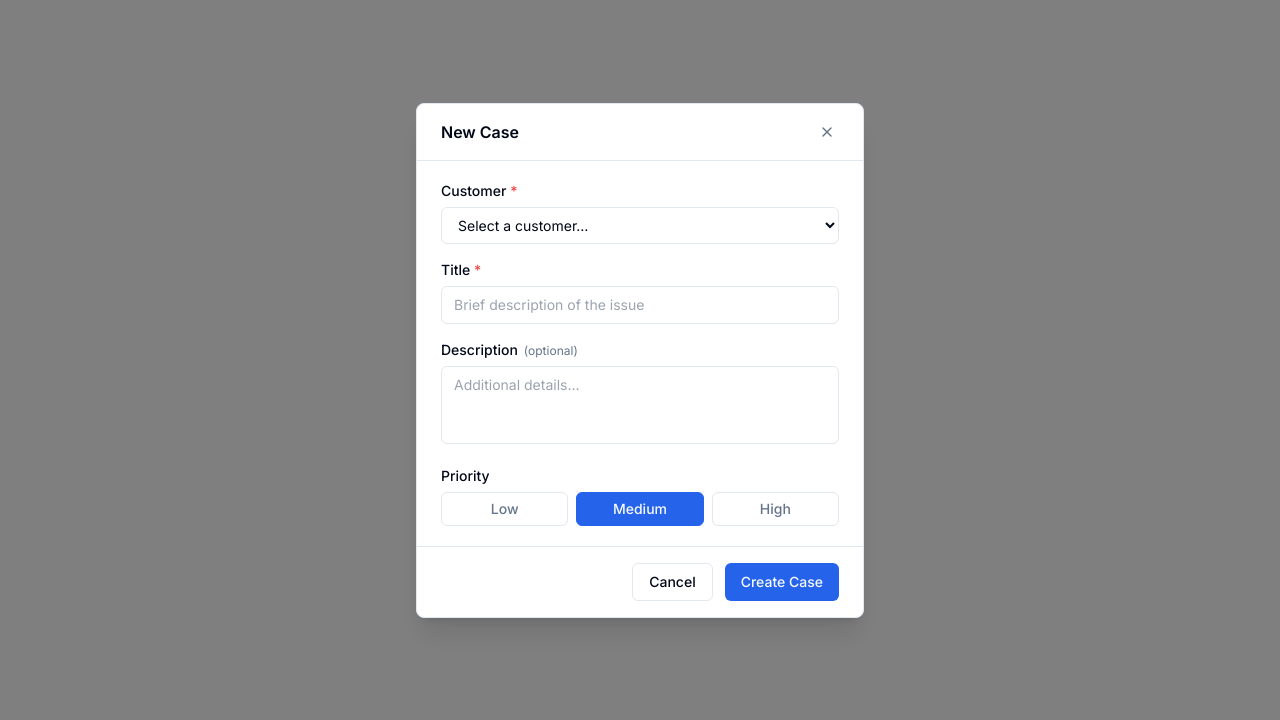
Test case: CreateCaseModal › shows error when submitting without selecting a customer
Type "Login bug" into the field labelled "Title *".
click(640, 304); type("Login bug")  # box [441,286,839,324]
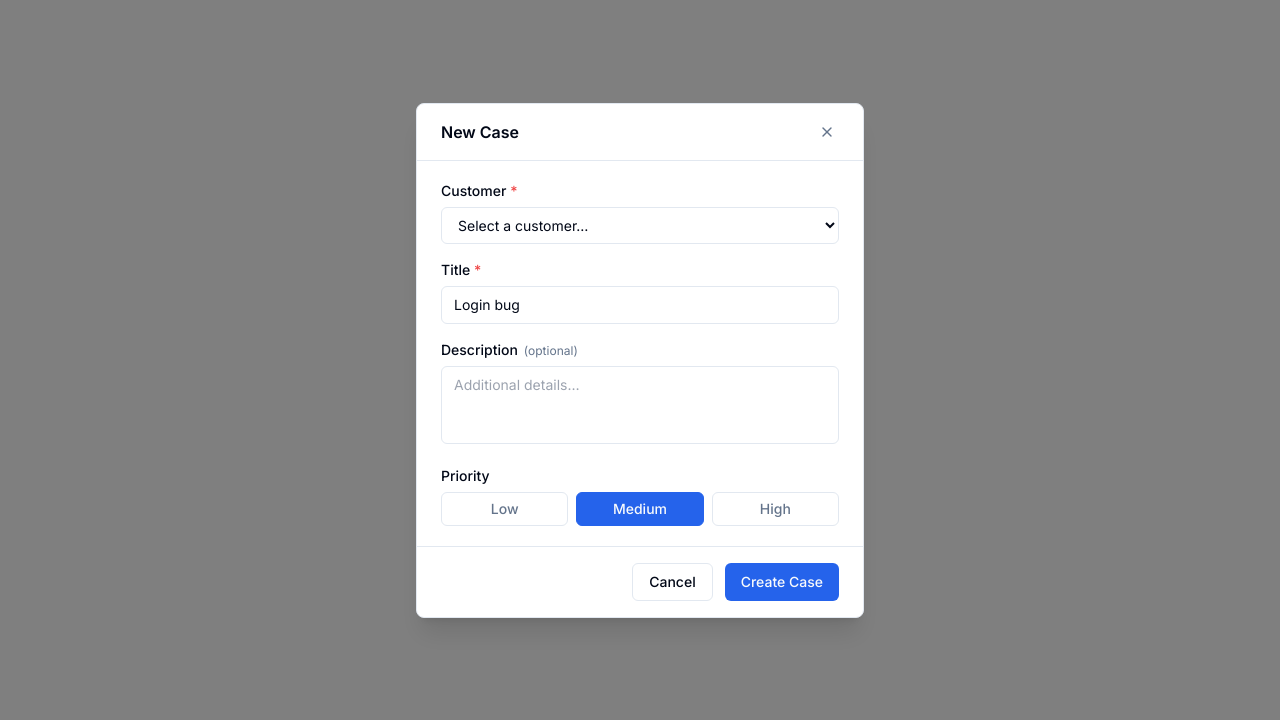
Click the button "Create Case".
click(782, 582)  # box [725,562,839,600]
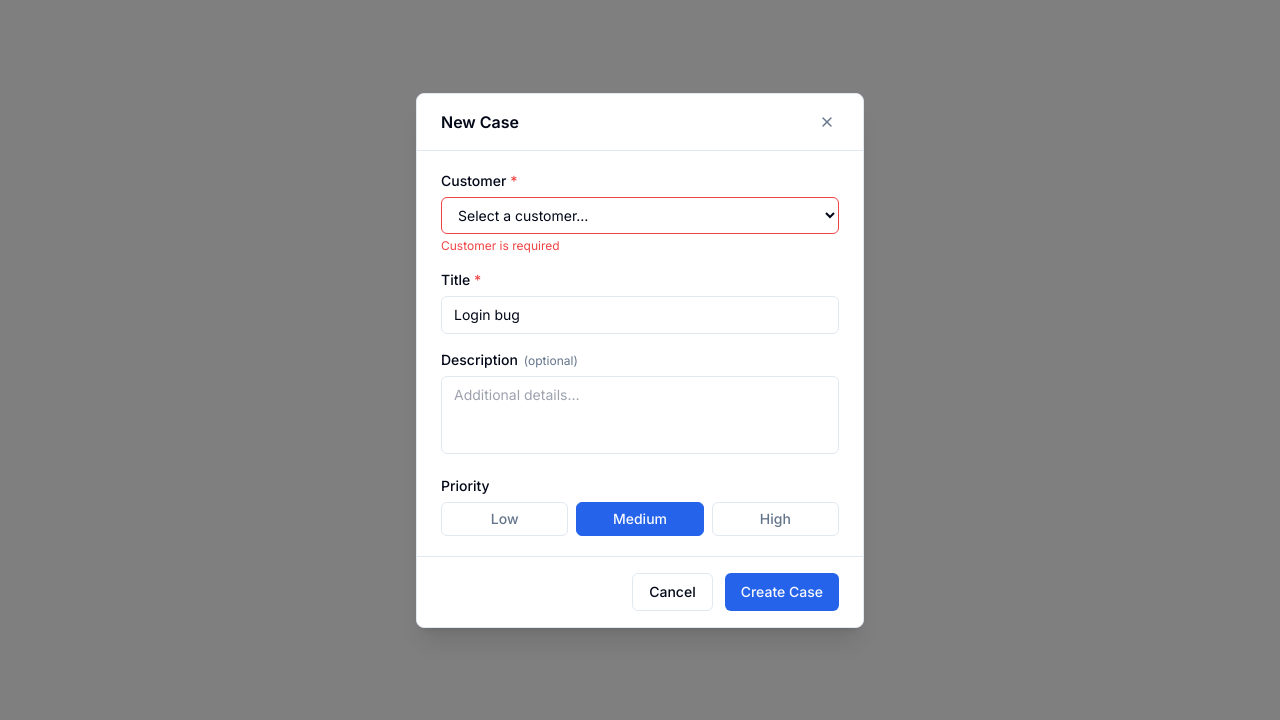
Expected: the text "Customer is required" is shown, [441,238,560,252]
